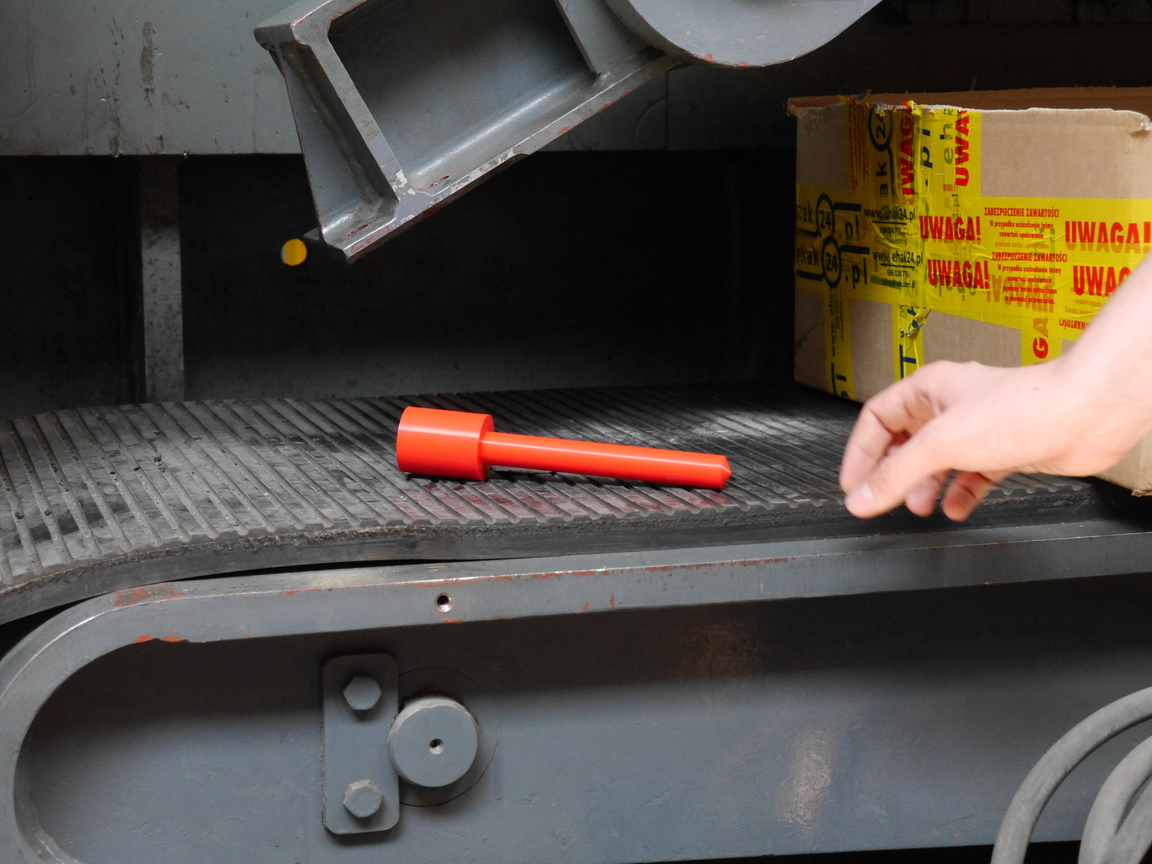cargo_g: (391, 400, 736, 497)
